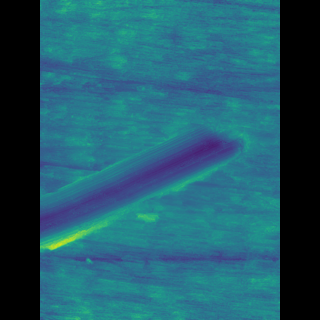Loch: (70, 119, 227, 257)
